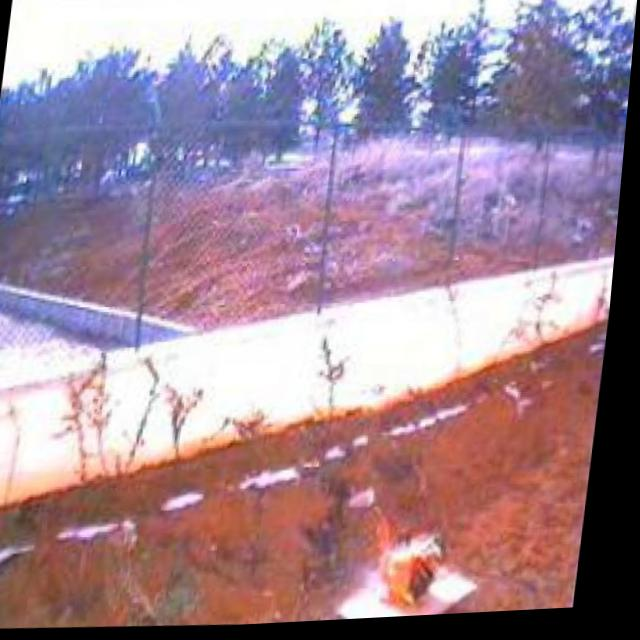Fire: (365, 505, 464, 619)
